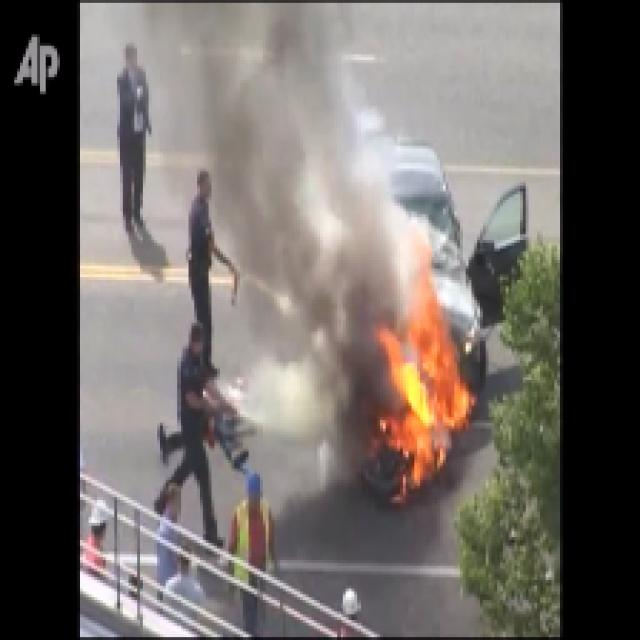fire: (402, 317, 460, 456)
smoke: (301, 141, 390, 390), (219, 79, 300, 249)
